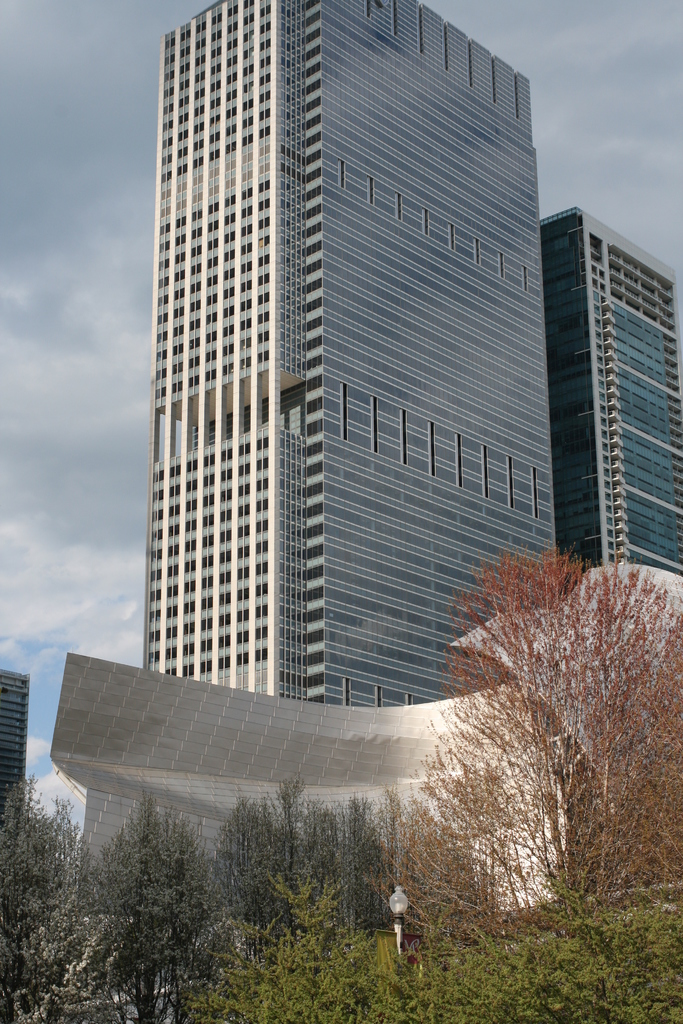Tree: (407, 500, 665, 940)
